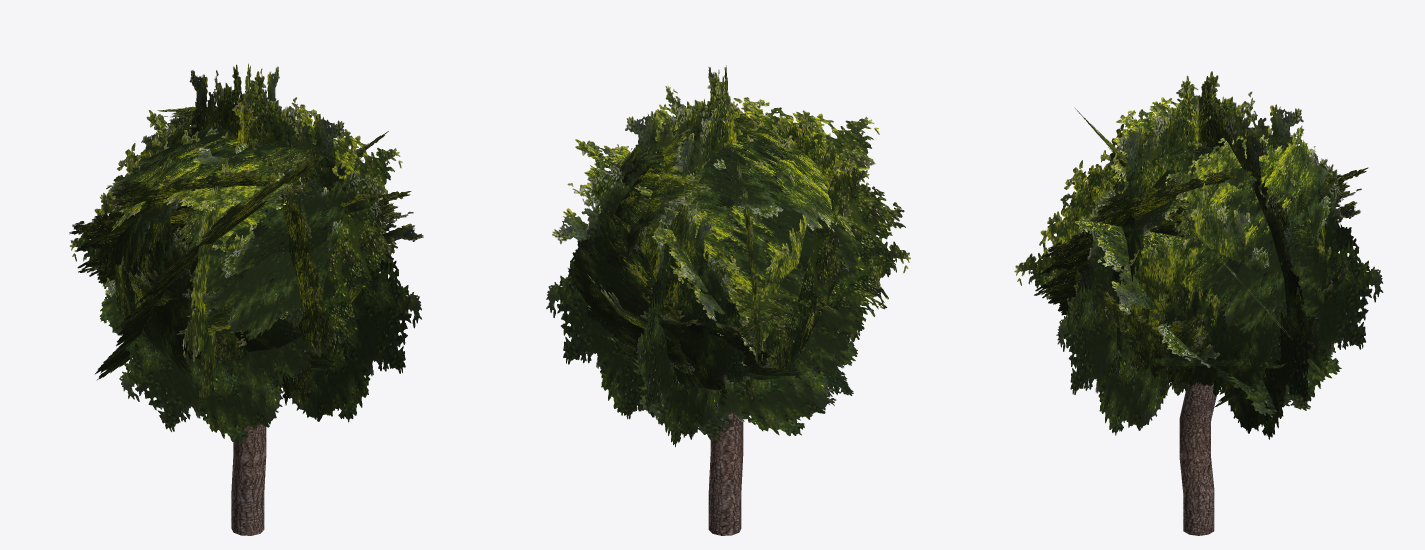
File: Tree.fbx
The picture shows the model from 3 angles, left to right: view 1: azimuth 30°, elevation 25°; view 2: azimuth 150°, elevation 25°; view 3: azimuth 270°, elevation 25°; orthographic projection.
Visible parts, largest first — view 1: group5_pPlane46; view 2: group5_pPlane46; view 3: group5_pPlane46.
Part boxes in pixels (<box>): group5_pPlane46: <box>69,63,423,535</box>; group5_pPlane46: <box>546,65,910,535</box>; group5_pPlane46: <box>1014,71,1383,535</box>.
Bounding box in the file's own units: 195 × 234 × 195.
Materials: 2 (2 with a texture image).
